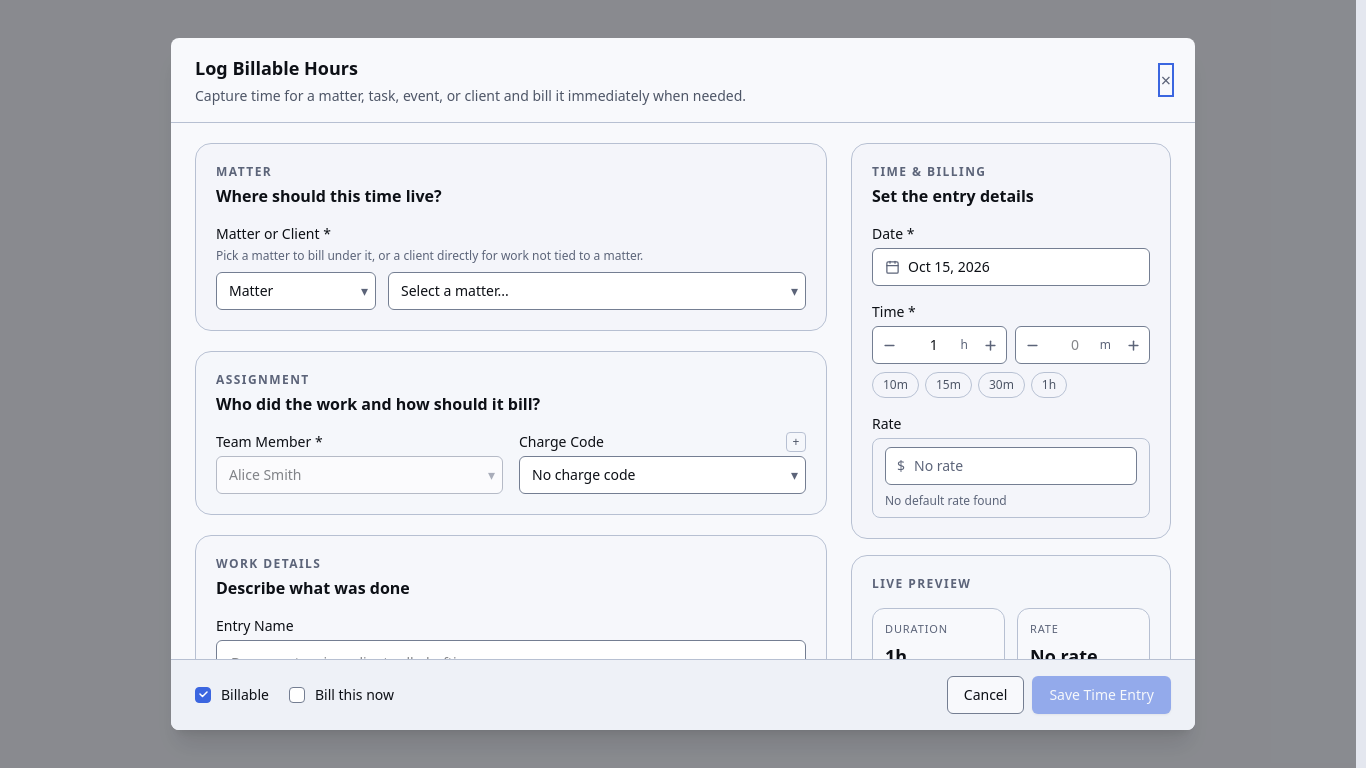
Test: TimeEntryModal › target picker › switches the picker to the clients lookup when Bill To is set to Client
Click the button "Matter ▾": [296, 291] box [216,272,376,310]
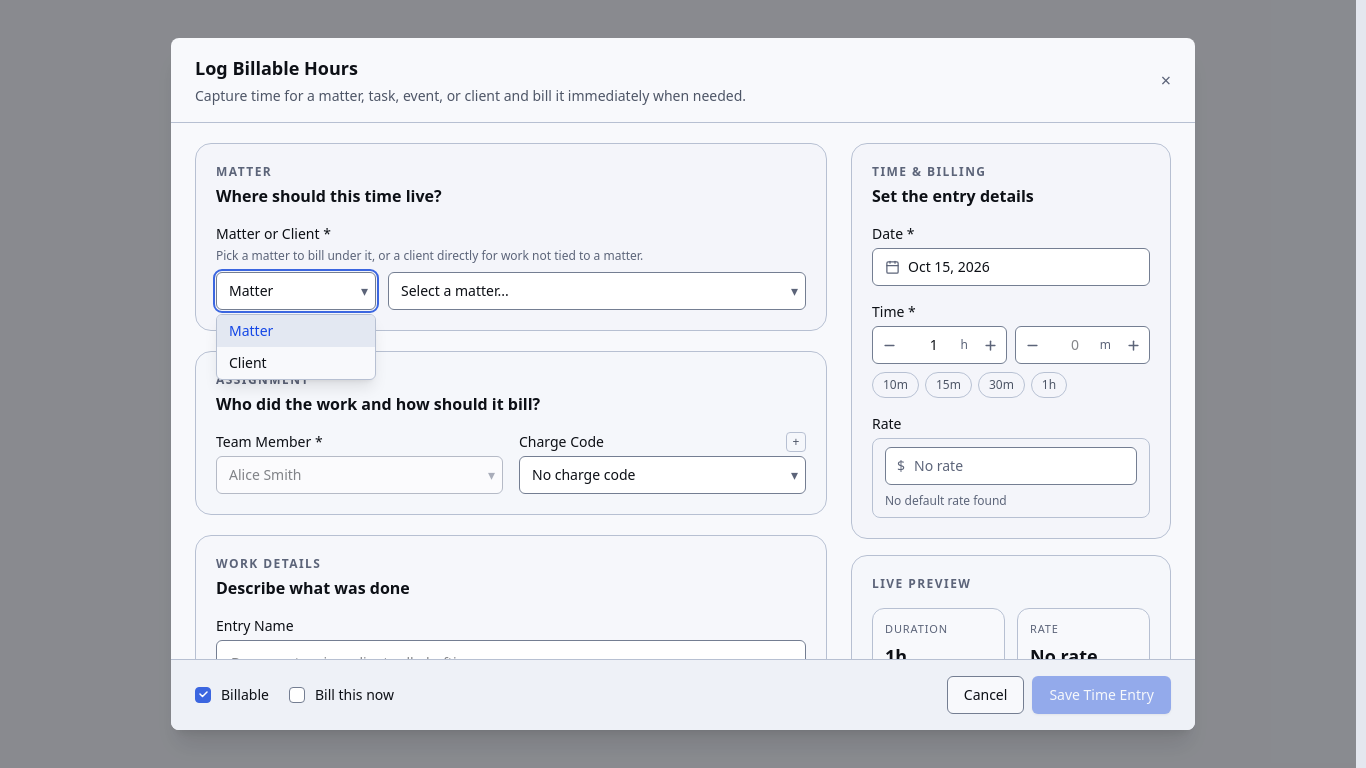
Click the option "Client": [248, 363] box [229,353,267,372]
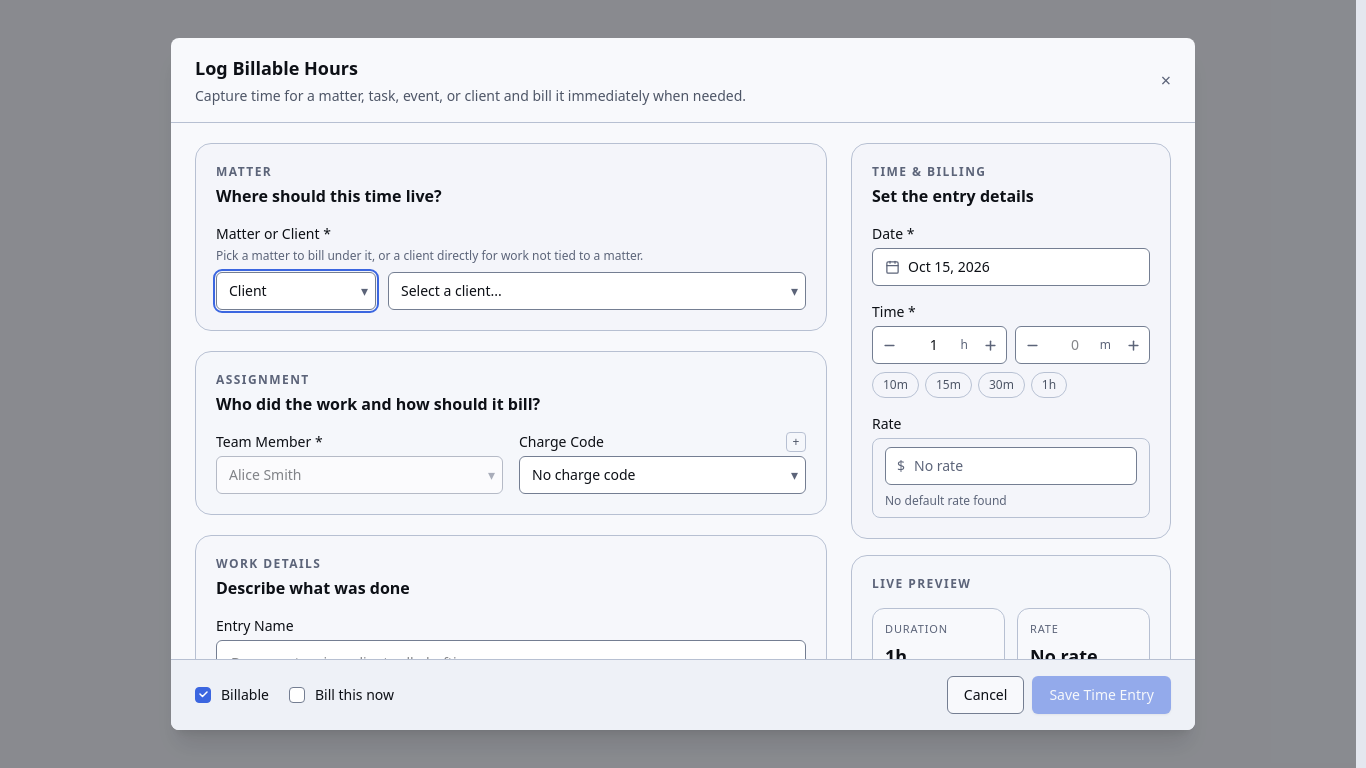
Click the button "Select a client... ▾": [451, 291] box [388,272,806,310]
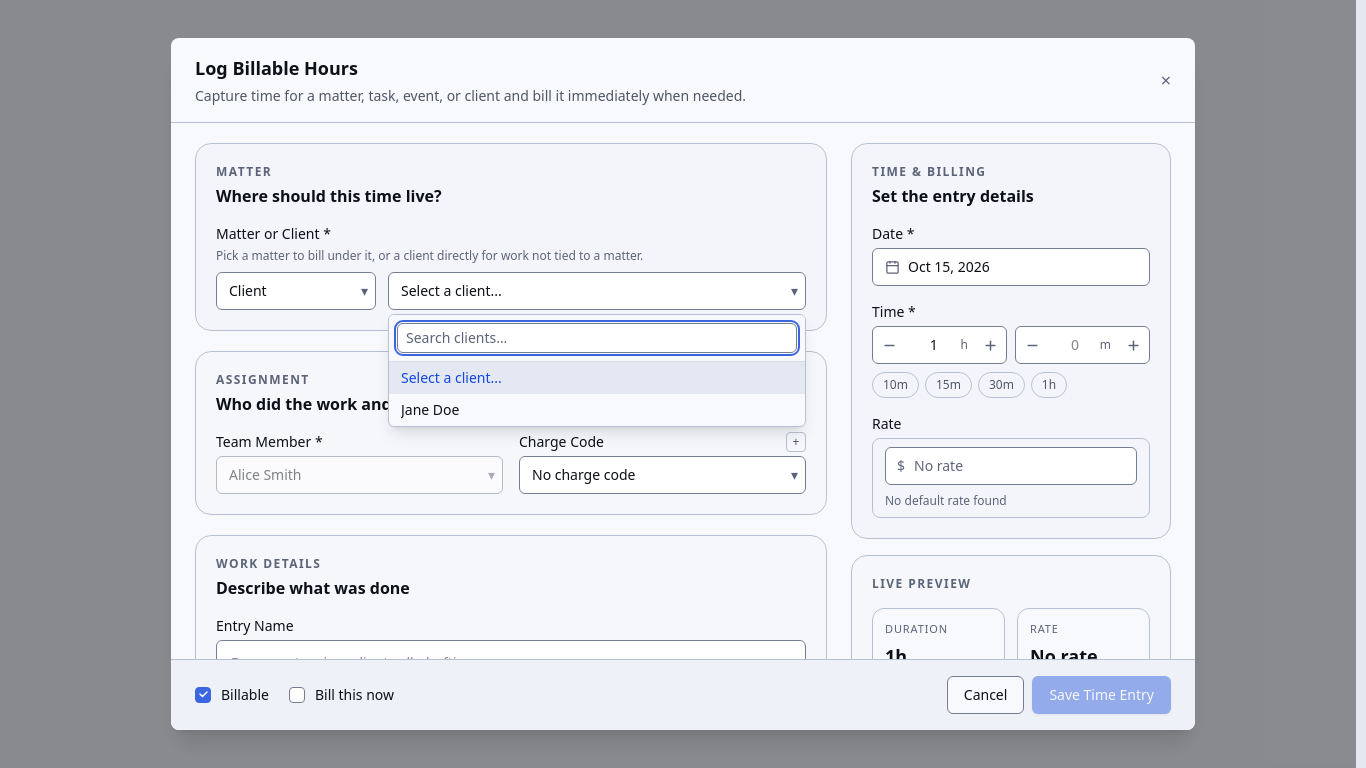
Expected: the text "Jane Doe" is shown, [401,400,460,420]
